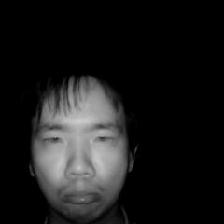sad: (24, 54, 138, 223)
